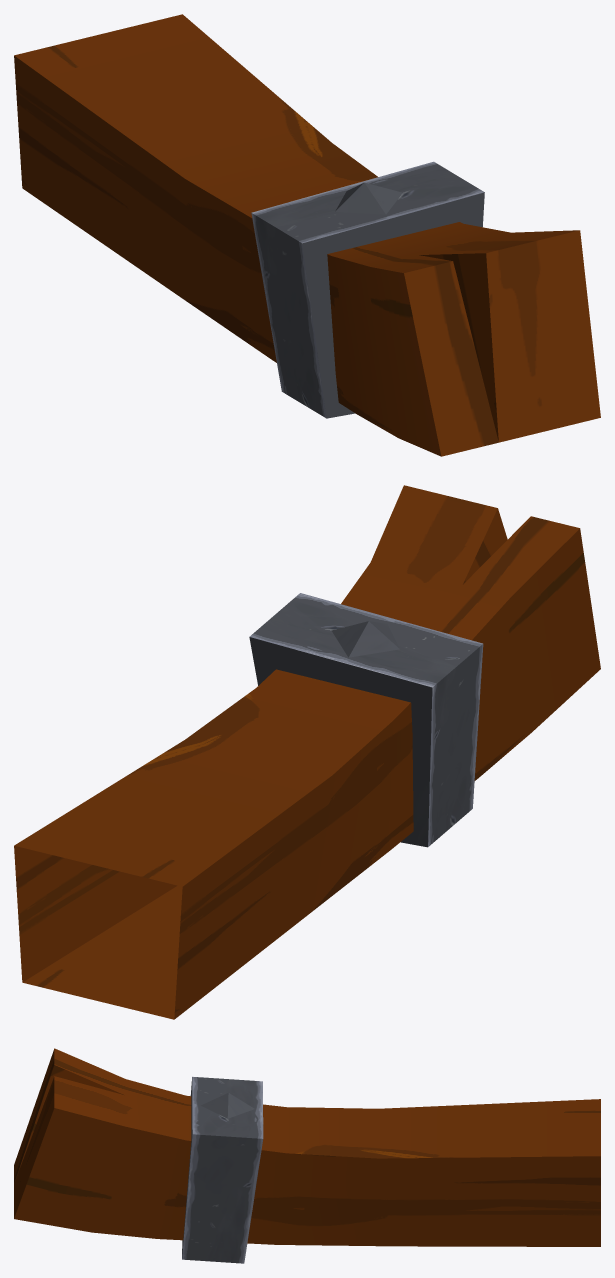
File: SM_BLD_beam_small_v05_01.fbx
3 views of the same model, one above another, from view 1: azimuth 30°, elevation 25°; view 2: azimuth 150°, elevation 25°; view 3: azimuth 270°, elevation 25° (orthographic). The views are drawn at different scales.
Parts seen in each view (by area): view 1: SM_BLD_beam_small_v05_01; view 2: SM_BLD_beam_small_v05_01; view 3: SM_BLD_beam_small_v05_01.
Boxes of the visible parts, x1,y1,x2,y2 form: SM_BLD_beam_small_v05_01: [14, 14, 600, 456]; SM_BLD_beam_small_v05_01: [14, 485, 600, 1019]; SM_BLD_beam_small_v05_01: [14, 1048, 600, 1263].
Bounding box in the file's own units: 75.11 × 90.99 × 301.
